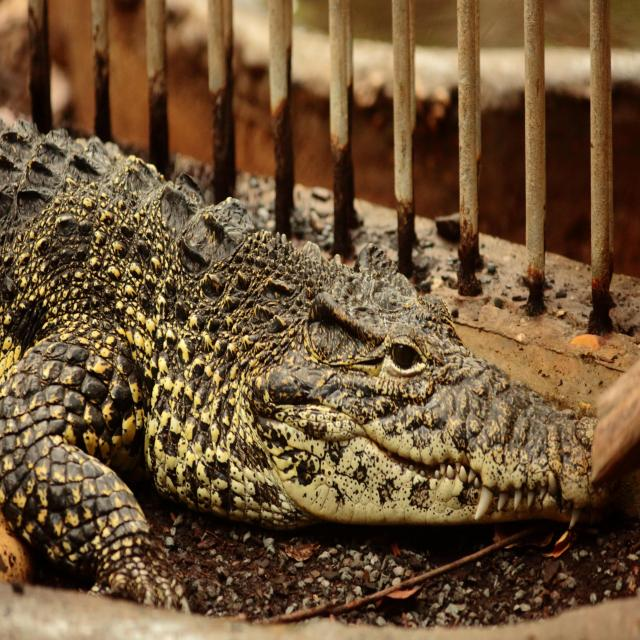crocodile: (0, 103, 635, 640)
